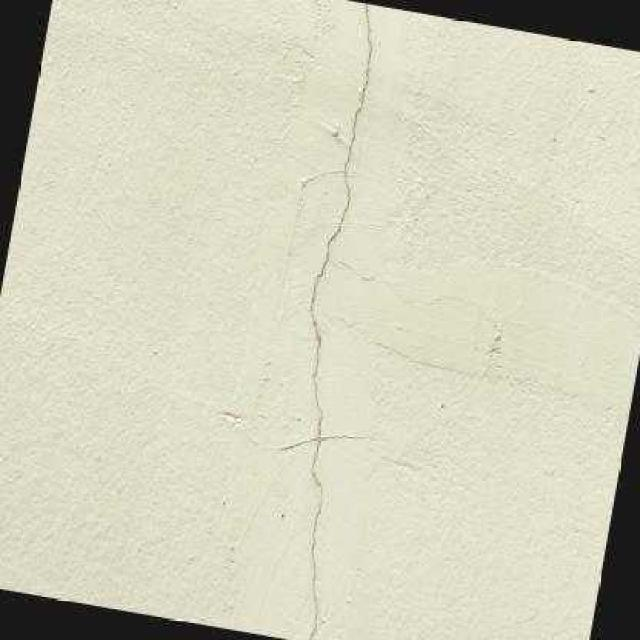D00: (276, 3, 371, 640)
